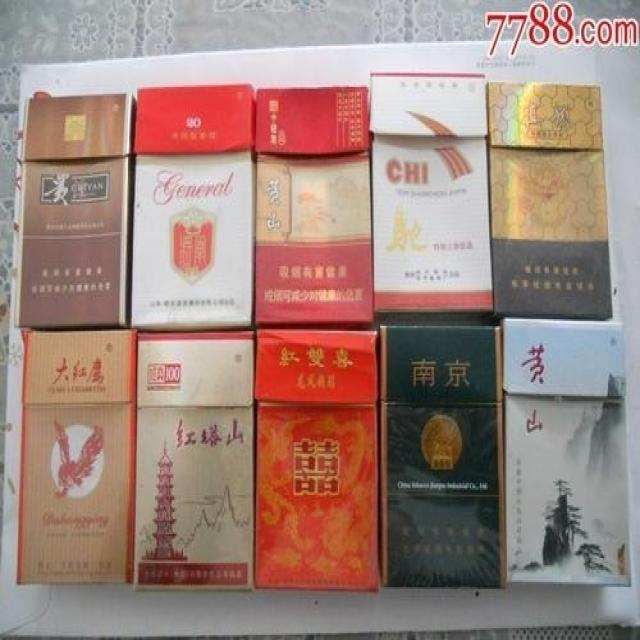box: (502, 317, 632, 585), (379, 319, 507, 589), (253, 323, 380, 592), (133, 328, 257, 591), (17, 328, 140, 592), (488, 82, 613, 328), (370, 72, 492, 323), (131, 84, 256, 328), (250, 85, 372, 326), (15, 94, 138, 328)
